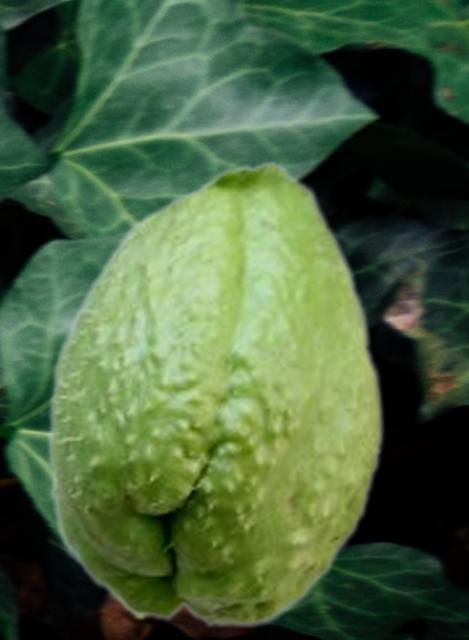sayote: (46, 158, 386, 629)
